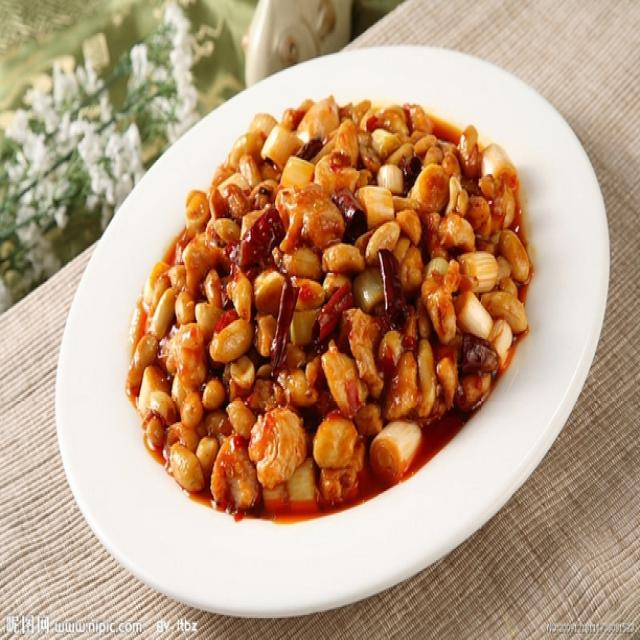鸡肉料理 含炸鸡: (45, 50, 605, 602)
